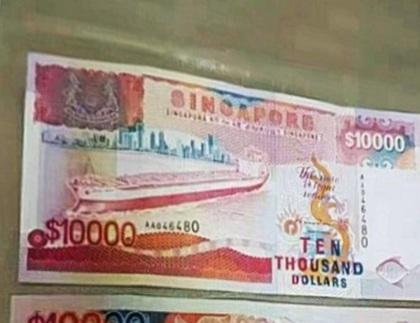10000SingaporeDollar: (28, 62, 420, 288)
